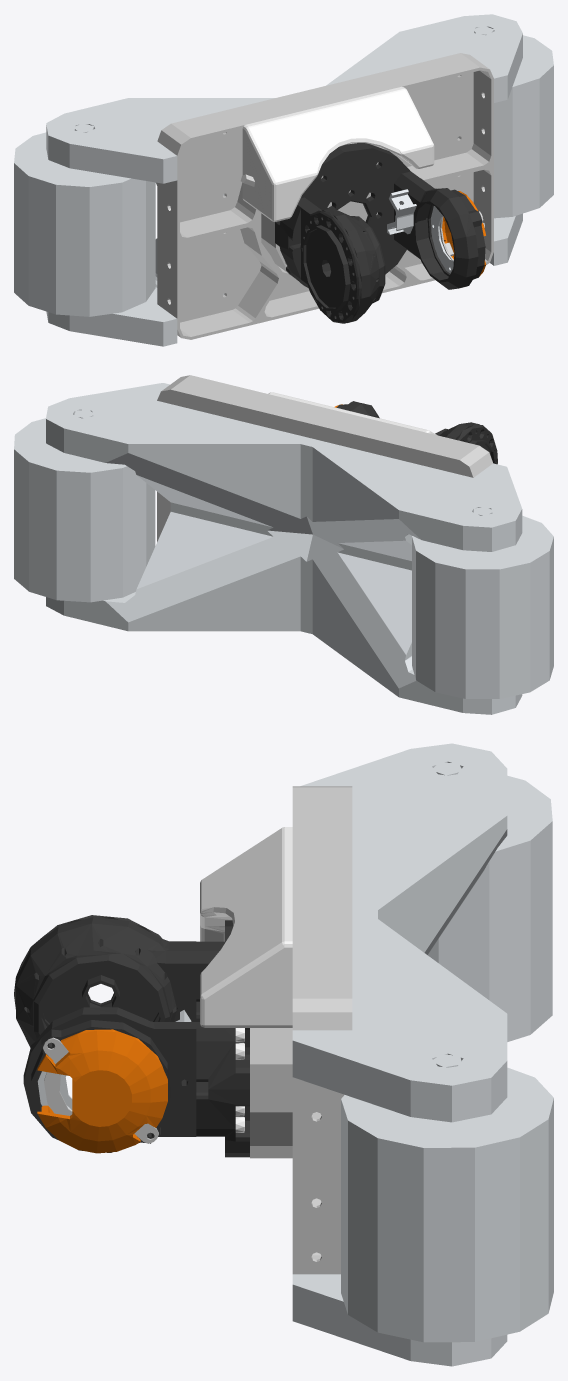
The model's file is LLEG_LINK5_mesh.dae.
3 views of the same model, one above another, from view 1: azimuth 30°, elevation 25°; view 2: azimuth 150°, elevation 25°; view 3: azimuth 270°, elevation 25° (orthographic). The views are drawn at different scales.
Parts seen in each view (by area): view 1: LLEG_LINK5 (×9); view 2: LLEG_LINK5 (×5); view 3: LLEG_LINK5 (×9).
Part boxes in pixels (x1=…): LLEG_LINK5 (×9): x1=14, y1=14, x2=553, y2=346; LLEG_LINK5 (×5): x1=14, y1=375, x2=553, y2=714; LLEG_LINK5 (×9): x1=14, y1=743, x2=553, y2=1366.
Size of the model in its own units: 0.3783 by 0.14 by 0.2266.
